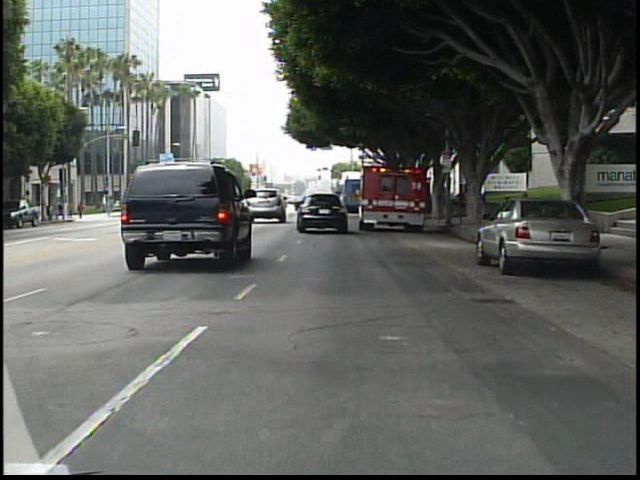person: (456, 186, 469, 222), (75, 198, 88, 222), (65, 198, 77, 222)
